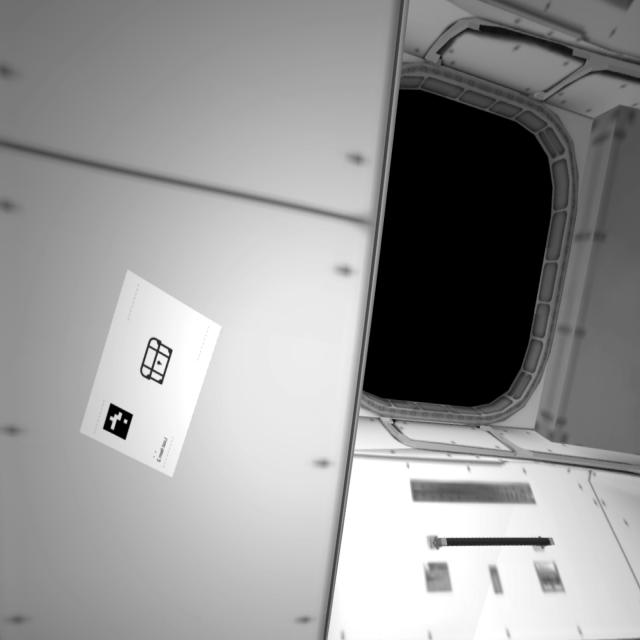treasure_box: (133, 334, 179, 400)
